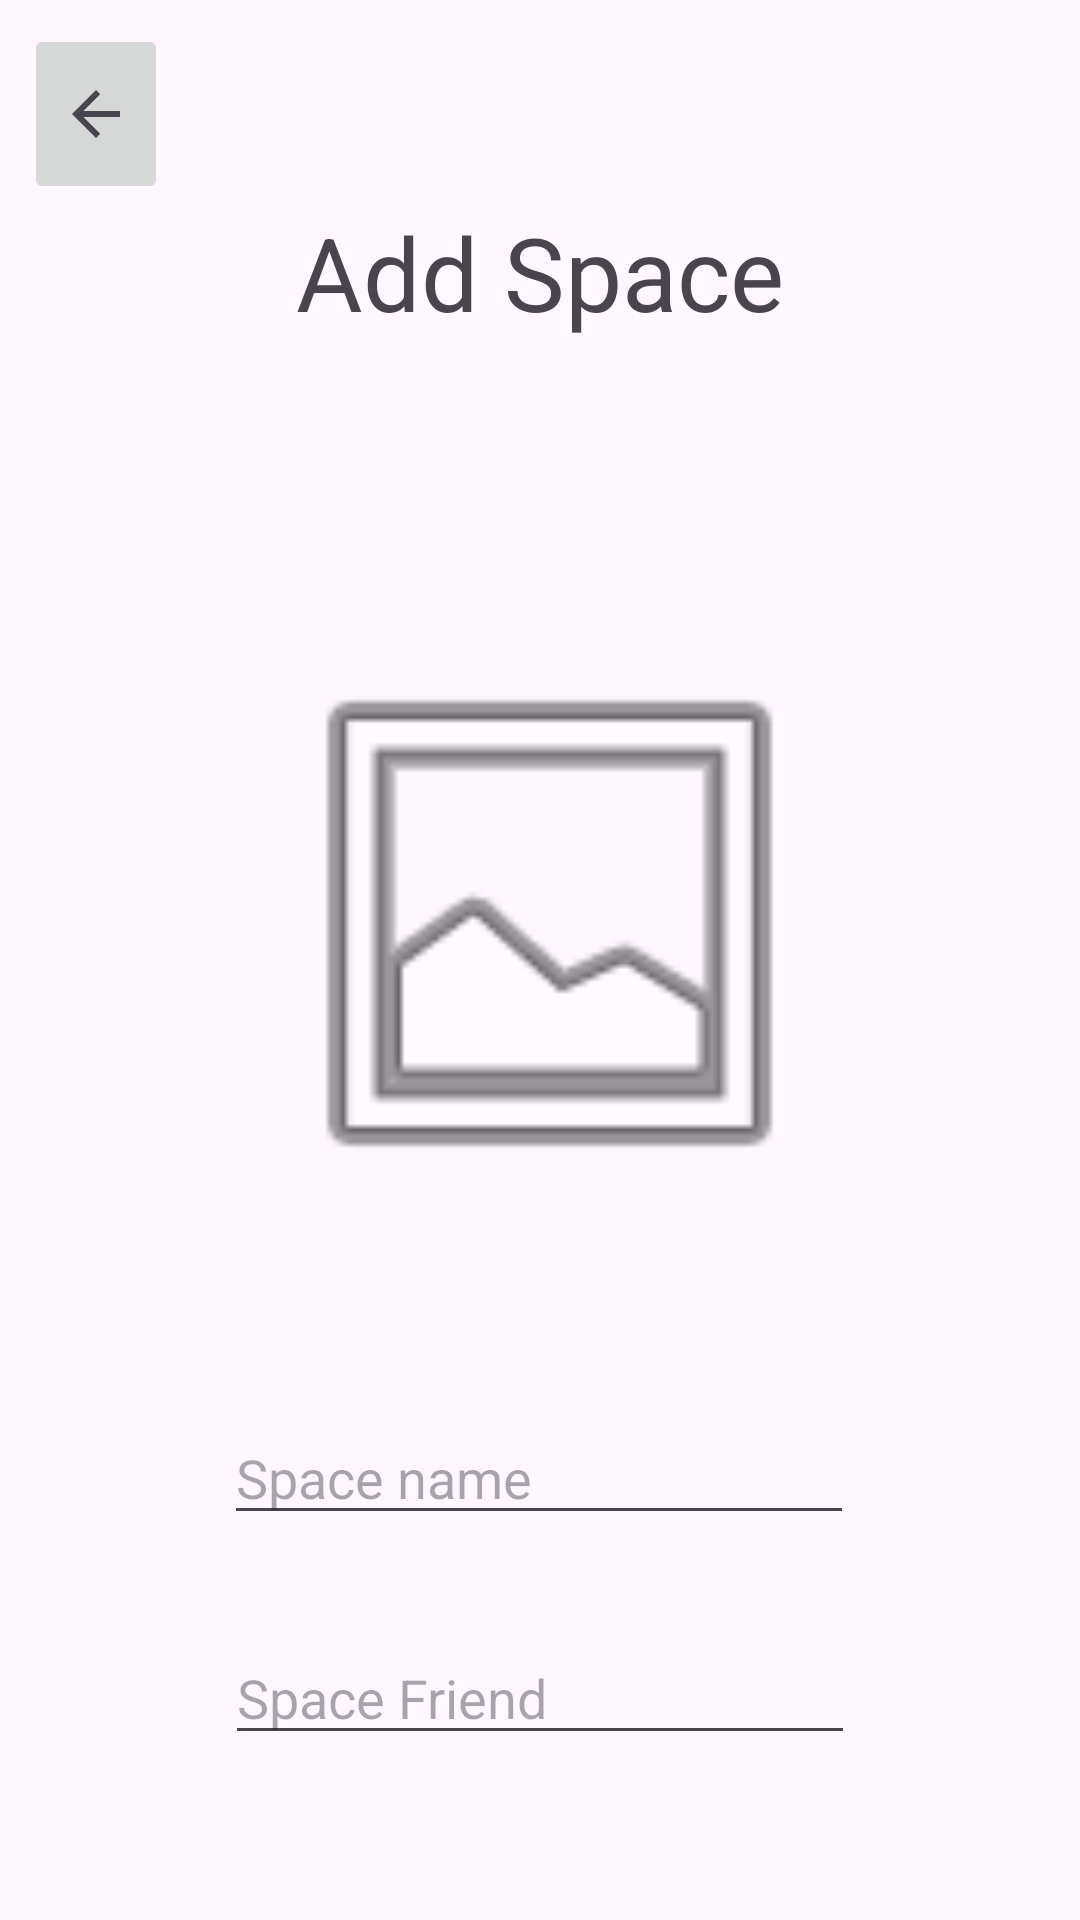

Named icons in this screenshot (1080x1920) and their bounding boxes, (x1, y1, x2, y2):
Back to Main: (36, 42, 156, 186)
